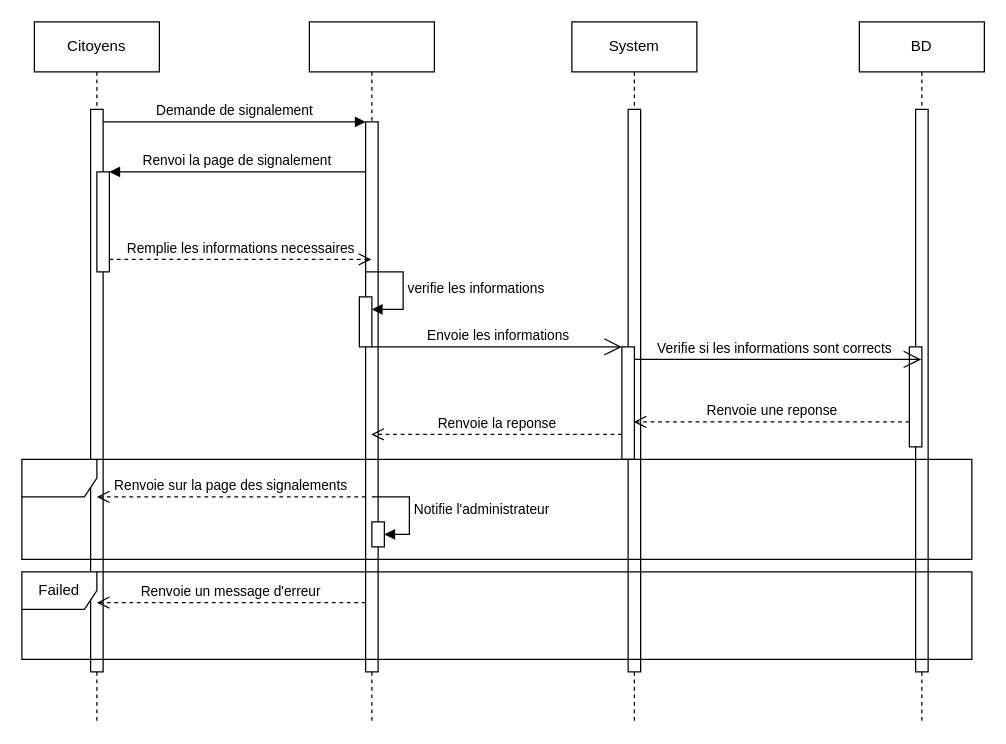
Some shapes in this 1006 by 744 pixel diagram are drawn without their labels. The centre of each missing label's shape, as x and y in pixels:
"App Mobile" belongs at (x=371, y=371).
"Success" belongs at (x=496, y=508).
